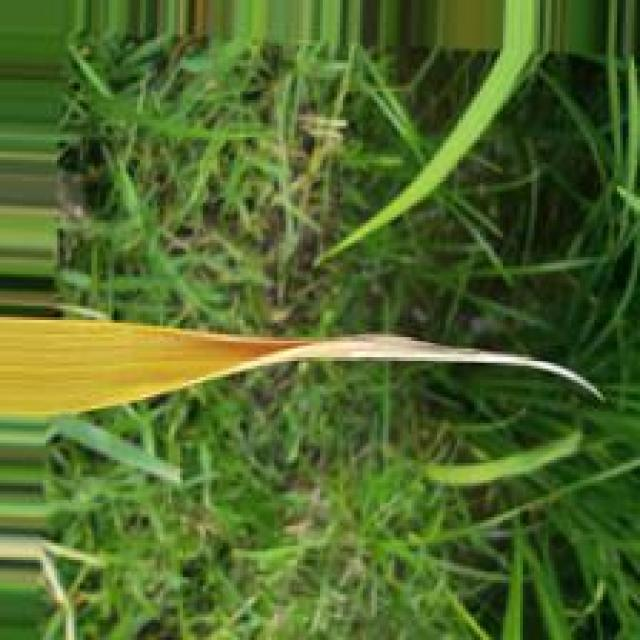Rice False Smut: (171, 330, 403, 367)
